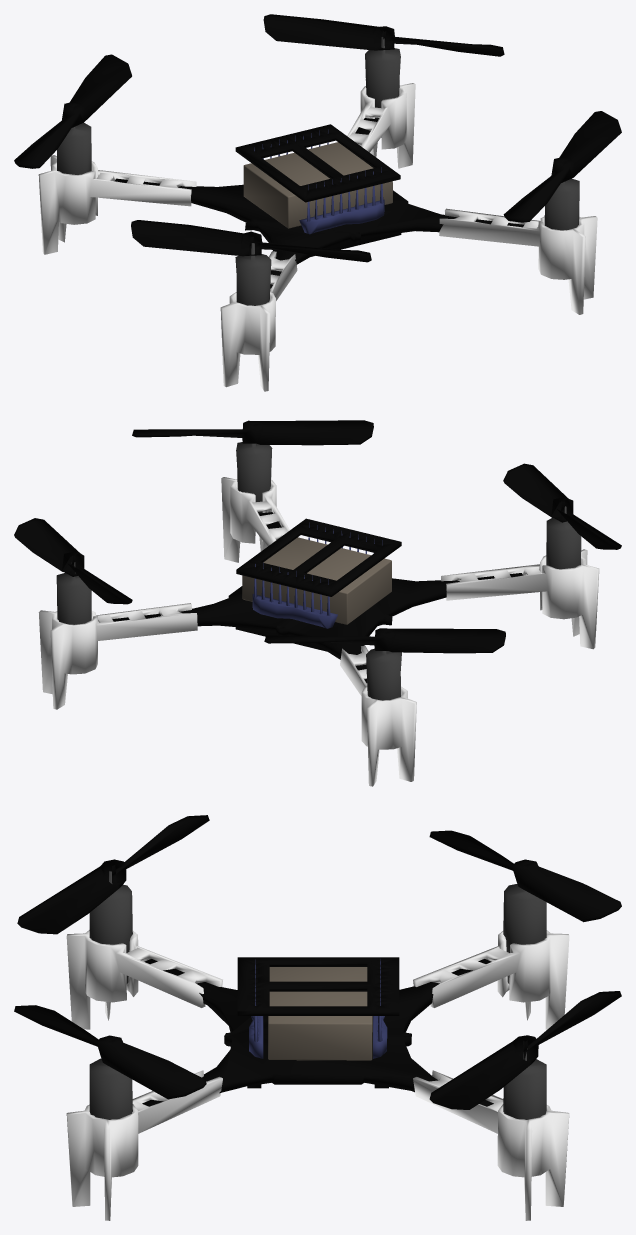
The model's file is crazyflie.glb.
3 renders of one model, top to bottom at view 1: azimuth 30°, elevation 25°; view 2: azimuth 150°, elevation 25°; view 3: azimuth 270°, elevation 25°, orthographic. The views are drawn at different scales.
Visible parts, largest first — view 1: 7mm motor mount Default sldprt, pcb Default sldprt, 7x15 motor Default sldprt, battery bc-bl-01-a Default sldprt, battery holder board Default sldprt, propeller ccw Default sldprt.002, propeller ccw Default sldprt.003, propeller ccw Default sldprt.004, propeller ccw Default sldprt.001, header Default sldprt; view 2: 7mm motor mount Default sldprt, 7x15 motor Default sldprt, pcb Default sldprt, battery bc-bl-01-a Default sldprt, battery holder board Default sldprt, propeller ccw Default sldprt.001, propeller ccw Default sldprt.004, propeller ccw Default sldprt.002, propeller ccw Default sldprt.003, header Default sldprt; view 3: 7mm motor mount Default sldprt, pcb Default sldprt, 7x15 motor Default sldprt, battery bc-bl-01-a Default sldprt, battery holder board Default sldprt, propeller ccw Default sldprt.002, propeller ccw Default sldprt.003, propeller ccw Default sldprt.001, propeller ccw Default sldprt.004, header Default sldprt.
Boxes of the visible parts, bbox=[...] form: 7mm motor mount Default sldprt: bbox=[38, 79, 597, 391]; pcb Default sldprt: bbox=[115, 118, 523, 288]; 7x15 motor Default sldprt: bbox=[57, 37, 579, 305]; battery bc-bl-01-a Default sldprt: bbox=[243, 142, 392, 228]; battery holder board Default sldprt: bbox=[235, 124, 400, 202]; propeller ccw Default sldprt.002: bbox=[263, 14, 504, 56]; propeller ccw Default sldprt.003: bbox=[131, 220, 371, 262]; propeller ccw Default sldprt.004: bbox=[14, 54, 131, 168]; propeller ccw Default sldprt.001: bbox=[503, 111, 621, 222]; header Default sldprt: bbox=[254, 129, 384, 234]; 7mm motor mount Default sldprt: bbox=[38, 477, 599, 786]; 7x15 motor Default sldprt: bbox=[56, 442, 581, 700]; pcb Default sldprt: bbox=[112, 512, 522, 683]; battery bc-bl-01-a Default sldprt: bbox=[242, 537, 391, 624]; battery holder board Default sldprt: bbox=[236, 518, 401, 596]; propeller ccw Default sldprt.001: bbox=[132, 420, 373, 445]; propeller ccw Default sldprt.004: bbox=[264, 628, 505, 653]; propeller ccw Default sldprt.002: bbox=[14, 518, 132, 604]; propeller ccw Default sldprt.003: bbox=[503, 463, 621, 549]; header Default sldprt: bbox=[252, 522, 382, 628]; 7mm motor mount Default sldprt: bbox=[66, 930, 569, 1220]; pcb Default sldprt: bbox=[142, 959, 493, 1106]; 7x15 motor Default sldprt: bbox=[89, 871, 546, 1119]; battery bc-bl-01-a Default sldprt: bbox=[268, 967, 372, 1060]; battery holder board Default sldprt: bbox=[237, 957, 399, 1015]; propeller ccw Default sldprt.002: bbox=[429, 991, 621, 1109]; propeller ccw Default sldprt.003: bbox=[17, 815, 209, 934]; propeller ccw Default sldprt.001: bbox=[14, 1005, 206, 1099]; propeller ccw Default sldprt.004: bbox=[429, 830, 621, 922]; header Default sldprt: bbox=[249, 959, 387, 1058].
Bounding box in the file's own units: 0.1511 × 0.0437 × 0.1415.
